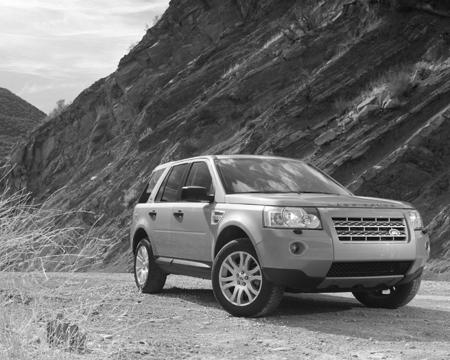car: (128, 152, 433, 322)
